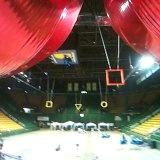Orange_Square_GShape: (106, 69, 124, 86)
Yellow_Circle_GShape: (101, 101, 108, 108)
Yellow_Square_GShape: (46, 101, 54, 108)
Yellow_Triangle_Gshape: (74, 103, 83, 110)
